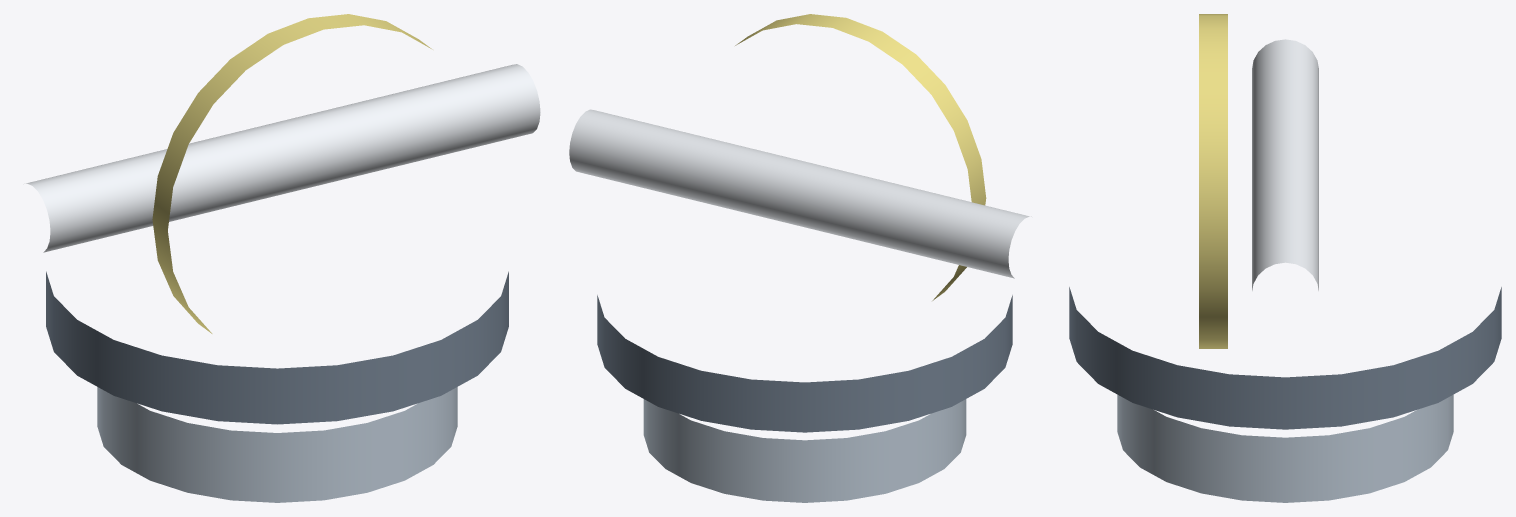
File: transit_theodolite_vernier_angles.glb
3 renders of one model, left to right at view 1: azimuth 30°, elevation 25°; view 2: azimuth 150°, elevation 25°; view 3: azimuth 270°, elevation 25°, orthographic. The views are drawn at different scales.
Visible parts, largest first — view 1: TransitTelescopeTrunnionAxis, UpperLowerHorizontalVernierPlates, TribrachLevelingHeadBase, VerticalCircleVernierCasing; view 2: TransitTelescopeTrunnionAxis, UpperLowerHorizontalVernierPlates, TribrachLevelingHeadBase, VerticalCircleVernierCasing; view 3: UpperLowerHorizontalVernierPlates, TribrachLevelingHeadBase, TransitTelescopeTrunnionAxis, VerticalCircleVernierCasing.
Part boxes in pixels (x1,y1,x2,y2): TransitTelescopeTrunnionAxis: (26,64,540,252); UpperLowerHorizontalVernierPlates: (46,271,508,424); TribrachLevelingHeadBase: (97,387,457,502); VerticalCircleVernierCasing: (152,14,432,333); TransitTelescopeTrunnionAxis: (569,109,1031,278); UpperLowerHorizontalVernierPlates: (597,295,1012,432); TribrachLevelingHeadBase: (643,399,966,502); VerticalCircleVernierCasing: (735,14,986,300); UpperLowerHorizontalVernierPlates: (1069,287,1501,429); TribrachLevelingHeadBase: (1117,394,1453,502); TransitTelescopeTrunnionAxis: (1252,39,1318,290); VerticalCircleVernierCasing: (1199,14,1227,348).
Size of the model in its own units: 1.1 by 0.925 by 0.9.
